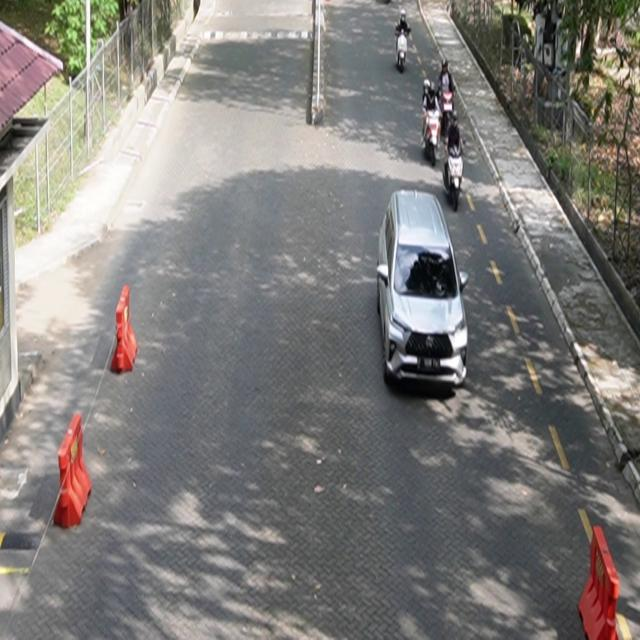car: (377, 189, 470, 391)
